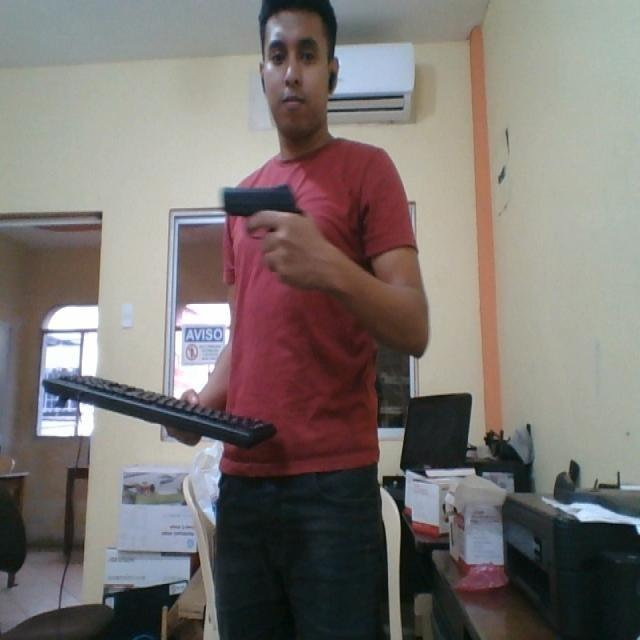weapon: (220, 184, 304, 242)
